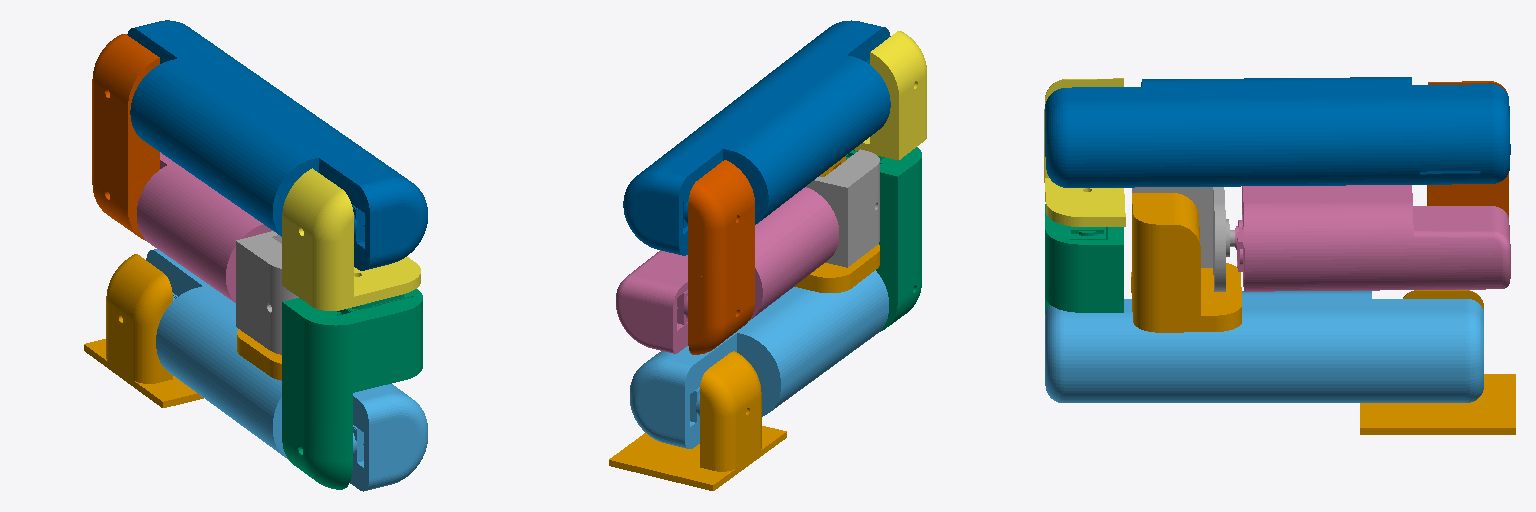
The robot description file, URDF, robot "arm2":
<?xml version='1.0' encoding='utf-8'?>
<robot name="arm2">
    <link name="base_link">
        <inertial>
            <origin xyz="-0.4978620384464306 -0.8602252270366714 0.14881945263357563"
                rpy="0.0 0.0 0.0" />
            <mass value="0.5289635796710868" />
            <inertia ixx="0.00034742150662819826" iyy="0.00033835491346662083"
                izz="0.00032653734961951564" ixy="7.4018092550975894e-06"
                iyz="-8.576313641331372e-06" ixz="7.973460484756584e-05" />
        </inertial>
        <visual name="base_link_visual">
            <origin xyz="0.0 0.0 0.0" rpy="0.0 0.0 0.0" />
            <geometry>
                <mesh filename="package://arm2_description/meshes/base_link.stl"
                    scale="0.001 0.001 0.001" />
            </geometry>
        </visual>
        <collision name="base_link_collision">
            <origin xyz="0.0 0.0 0.0" rpy="0.0 0.0 0.0" />
            <geometry>
                <mesh filename="package://arm2_description/meshes/base_link.stl"
                    scale="0.001 0.001 0.001" />
            </geometry>
        </collision>
    </link>
    <link name="arm_1">
        <inertial>
            <origin xyz="0.001468958902272739 -0.09755592156138476 -0.014383547671648955"
                rpy="0.0 -0.0 0.0" />
            <mass value="4.692702425103448" />
            <inertia ixx="0.018450371432606083" iyy="0.0022924316231949238"
                izz="0.018033331112635942" ixy="7.6200128962256e-07" iyz="0.00011766538318312717"
                ixz="3.360163822862139e-07" />
        </inertial>
        <visual name="arm_1_visual">
            <origin xyz="0.09652492537393506 0.9603418934556679 -0.600508235246513"
                rpy="7.893518669522489e-31 -1.5707963267948928 0" />
            <geometry>
                <mesh filename="package://arm2_description/meshes/arm_1.stl"
                    scale="0.001 0.001 0.001" />
            </geometry>
        </visual>
        <collision name="arm_1_collision">
            <origin xyz="0.09652492537393506 0.9603418934556679 -0.600508235246513"
                rpy="7.893518669522489e-31 -1.5707963267948928 0" />
            <geometry>
                <mesh filename="package://arm2_description/meshes/arm_1.stl"
                    scale="0.001 0.001 0.001" />
            </geometry>
        </collision>
    </link>
    <link name="arm_2">
        <inertial>
            <origin xyz="0.04646050510372611 0.00025955415157682184 0.004747670168694924"
                rpy="0.0 -0.0 0.0" />
            <mass value="1.202796183767878" />
            <inertia ixx="0.0006837825937870967" iyy="0.001320285018742151"
                izz="0.0009831727585649652" ixy="-1.961546090556313e-05"
                iyz="-1.193799392462537e-05" ixz="-0.00030321665398197456" />
        </inertial>
        <visual name="arm_2_visual">
            <origin xyz="0.033999999458183584 0.005000003956452446 -0.007500002965190689"
                rpy="1.5707963267949017 2.105251958897056e-15 8.268195910819235e-30" />
            <geometry>
                <mesh filename="package://arm2_description/meshes/arm_2.stl"
                    scale="0.001 0.001 0.001" />
            </geometry>
        </visual>
        <collision name="arm_2_collision">
            <origin xyz="0.033999999458183584 0.005000003956452446 -0.007500002965190689"
                rpy="1.5707963267949017 2.105251958897056e-15 8.268195910819235e-30" />
            <geometry>
                <mesh filename="package://arm2_description/meshes/arm_2.stl"
                    scale="0.001 0.001 0.001" />
            </geometry>
        </collision>
    </link>
    <link name="arm_3">
        <inertial>
            <origin xyz="0.029049151328160827 0.0010410322621982005 -0.01733873965324655"
                rpy="-1.8868807888022411e-90 -0.0 0.0" />
            <mass value="0.46385857953142046" />
            <inertia ixx="0.00018515491356319025" iyy="0.0002833506080626158"
                izz="0.00023136504069264633" ixy="3.3737295296328777e-07"
                iyz="6.001949390543048e-07" ixz="6.527822290304697e-05" />
        </inertial>
        <visual name="arm_3_visual">
            <origin xyz="0.002024925374062079 -1.1475942034556579 0.5320082352465172"
                rpy="1.5707963267948988 4.855169349603931e-17 1.570796326794979" />
            <geometry>
                <mesh filename="package://arm2_description/meshes/arm_3.stl"
                    scale="0.001 0.001 0.001" />
            </geometry>
        </visual>
        <collision name="arm_3_collision">
            <origin xyz="0.002024925374062079 -1.1475942034556579 0.5320082352465172"
                rpy="1.5707963267948988 4.855169349603931e-17 1.570796326794979" />
            <geometry>
                <mesh filename="package://arm2_description/meshes/arm_3.stl"
                    scale="0.001 0.001 0.001" />
            </geometry>
        </collision>
    </link>
    <link name="arm_4">
        <inertial>
            <origin xyz="-0.014457391368257718 0.00014607877796755987 -0.10326662740779441"
                rpy="1.577721810442024e-30 3.469446951950197e-18 -4.930380657631325e-32" />
            <mass value="4.838851771004671" />
            <inertia ixx="0.020512356223124435" iyy="0.021126873659128798"
                izz="0.0023305019136294802" ixy="7.331755276813214e-06" iyz="3.902695496726724e-05"
                ixz="-0.00011555949347316878" />
        </inertial>
        <visual name="arm_4_visual">
            <origin xyz="-0.5746179782026112 0.050697554618139726 -1.1357245098281386"
                rpy="1.5707963267949803 -1.5707963267948017 0" />
            <geometry>
                <mesh filename="package://arm2_description/meshes/arm_4.stl"
                    scale="0.001 0.001 0.001" />
            </geometry>
        </visual>
        <collision name="arm_4_collision">
            <origin xyz="-0.5746179782026112 0.050697554618139726 -1.1357245098281386"
                rpy="1.5707963267949803 -1.5707963267948017 0" />
            <geometry>
                <mesh filename="package://arm2_description/meshes/arm_4.stl"
                    scale="0.001 0.001 0.001" />
            </geometry>
        </collision>
    </link>
    <link name="arm_5">
        <inertial>
            <origin xyz="-0.014560508261271962 -0.030127811176536633 -5.3502466136592376e-05"
                rpy="0.0 4.226342840682485e-43 -1.4012984643248174e-45" />
            <mass value="0.6582703916464507" />
            <inertia ixx="0.0006403762308376801" iyy="0.00012241957194325526"
                izz="0.0005607234072720344" ixy="-1.0392954136307448e-09"
                iyz="-9.114859291995704e-10" ixz="3.6663628621989487e-07" />
        </inertial>
        <visual name="arm_5_visual">
            <origin xyz="0.4893813691929647 -0.3042295778741226 -1.0899899878866102"
                rpy="-1.5707963267947789 0.02238380577389224 7.76271511819099e-14" />
            <geometry>
                <mesh filename="package://arm2_description/meshes/arm_5.stl"
                    scale="0.001 0.001 0.001" />
            </geometry>
        </visual>
        <collision name="arm_5_collision">
            <origin xyz="0.4893813691929647 -0.3042295778741226 -1.0899899878866102"
                rpy="-1.5707963267947789 0.02238380577389224 7.76271511819099e-14" />
            <geometry>
                <mesh filename="package://arm2_description/meshes/arm_5.stl"
                    scale="0.001 0.001 0.001" />
            </geometry>
        </collision>
    </link>
    <link name="arm_6">
        <inertial>
            <origin xyz="-0.0004855266709942896 -0.06097699224107018 -0.013620188460791027"
                rpy="4.552772925024232e-72 -0.0 0.0" />
            <mass value="2.7005914040272287" />
            <inertia ixx="0.004680855610912804" iyy="0.001292119750982407"
                izz="0.0043390020398983604" ixy="0.00014215338177492364"
                iyz="0.00028856231621801035" ixz="-1.52780918652529e-05" />
        </inertial>
        <visual name="arm_6_visual">
            <origin xyz="-0.05397301787405457 0.9382117091042165 -0.5457678701353874"
                rpy="-1.5707963267948204 0.02238380577389022 -1.5707963267949798" />
            <geometry>
                <mesh filename="package://arm2_description/meshes/arm_6.stl"
                    scale="0.001 0.001 0.001" />
            </geometry>
        </visual>
        <collision name="arm_6_collision">
            <origin xyz="-0.05397301787405457 0.9382117091042165 -0.5457678701353874"
                rpy="-1.5707963267948204 0.02238380577389022 -1.5707963267949798" />
            <geometry>
                <mesh filename="package://arm2_description/meshes/arm_6.stl"
                    scale="0.001 0.001 0.001" />
            </geometry>
        </collision>
    </link>
    <link name="arm_7">
        <inertial>
            <origin xyz="0.0004931413793654472 0.024747309214756825 -0.01687305491240437"
                rpy="1.5930919111324523e-58 -0.0 0.0" />
            <mass value="0.47563160728907944" />
            <inertia ixx="0.00022938326215116156" iyy="0.0002178366833349712"
                izz="0.00021098336803199147" ixy="-1.2409722735528996e-08"
                iyz="5.5174108472499914e-05" ixz="5.2149485847680846e-08" />
        </inertial>
        <visual name="arm_7_visual">
            <origin xyz="-0.004999998348927441 -0.0500844757503792 -0.019125780005055545"
                rpy="1.5707963267949732 -0.022383805773805058 1.5707963267949585" />
            <geometry>
                <mesh filename="package://arm2_description/meshes/arm_7.stl"
                    scale="0.001 0.001 0.001" />
            </geometry>
        </visual>
        <collision name="arm_7_collision">
            <origin xyz="-0.004999998348927441 -0.0500844757503792 -0.019125780005055545"
                rpy="1.5707963267949732 -0.022383805773805058 1.5707963267949585" />
            <geometry>
                <mesh filename="package://arm2_description/meshes/arm_7.stl"
                    scale="0.001 0.001 0.001" />
            </geometry>
        </collision>
    </link>
    <link name="hand">
        <inertial>
            <origin xyz="0.018743459451590283 -0.015323223424848785 -0.007866942811366186"
                rpy="0.0 -0.0 0.0" />
            <mass value="0.8723998674547482" />
            <inertia ixx="0.0004954635038616484" iyy="0.00040691383274914727"
                izz="0.0005557626292218918" ixy="-8.464367630564707e-05"
                iyz="-7.153424598795762e-05" ixz="-2.1697164913105272e-05" />
        </inertial>
        <visual name="hand_visual">
            <origin xyz="0.4919713908041492 -0.23783935849352525 -1.0047784740672443"
                rpy="-1.5707963267948934 0.022383805773862155 1.434808728868977e-13" />
            <geometry>
                <mesh filename="package://arm2_description/meshes/hand.stl"
                    scale="0.001 0.001 0.001" />
            </geometry>
        </visual>
        <collision name="hand_collision">
            <origin xyz="0.4919713908041492 -0.23783935849352525 -1.0047784740672443"
                rpy="-1.5707963267948934 0.022383805773862155 1.434808728868977e-13" />
            <geometry>
                <mesh filename="package://arm2_description/meshes/hand.stl"
                    scale="0.001 0.001 0.001" />
            </geometry>
        </collision>
    </link>
    <joint name="servo_1" type="revolute">
        <origin xyz="-0.49253320999999994 -0.8593418934556784 0.16346362308864362"
            rpy="-8.15938374900091e-16 -1.5707963267948966 0" />
        <parent link="base_link" />
        <child link="arm_1" />
        <axis xyz="0.0 -8.714495261313488e-16 1.0" />
        <limit lower="0.0" upper="3.141593" effort="100" velocity="5.25" />
    </joint>
    <joint name="servo_2" type="revolute">
        <origin xyz="0.0 -0.19325231000000004 -1.4210854715202004e-16"
            rpy="3.14159265358979 -0.0 0.0" />
        <parent link="arm_1" />
        <child link="arm_2" />
        <axis xyz="0.0 3.9274139496115e-15 -1.0" />
        <limit lower="-3.141593" upper="0.0" effort="100" velocity="5.25" />
    </joint>
    <joint name="servo_3" type="revolute">
        <origin xyz="0.08449999999999999 -1.4210854715202004e-16 0.010499999999999971"
            rpy="5.1063883277737336e-15 -3.503246160812043e-46 -1.3758697840896148e-60" />
        <parent link="arm_2" />
        <child link="arm_3" />
        <axis xyz="1.0 5.3860925044584005e-45 -6.538970074006538e-14" />
        <limit lower="-1.570796" upper="1.570796" effort="100" velocity="5.25" />
    </joint>
    <joint name="servo_4" type="revolute">
        <origin xyz="0.0454999999999993 0.0002355699999999672 -0.010522339999999986"
            rpy="-6.509950977085272e-28 1.5484125210210091 1.5707963267978051" />
        <parent link="arm_3" />
        <child link="arm_4" />
        <axis xyz="0.9999995084623765 2.766112916432508e-16 7.437694409667683e-08" />
        <limit lower="-3.141593" upper="0.0" effort="100" velocity="5.25" />
    </joint>
    <joint name="servo_5" type="revolute">
        <origin xyz="-0.004962859728564269 0.0017115099999974249 -0.20696316729374573"
            rpy="-2.1125888307746806e-14 -0.022383805773888623 3.141592653589793" />
        <parent link="arm_4" />
        <child link="arm_5" />
        <axis xyz="-0.9997489999999999 -7.494509237472398e-16 0.022381999999999853" />
        <limit lower="-3.141593" upper="0.0" effort="100" velocity="5.25" />
    </joint>
    <joint name="servo_6" type="revolute">
        <origin xyz="-3.09999999927868e-07 -0.060256560000000015 -2.2900000018921675e-06"
            rpy="-1.5707963267949252 -3.3484537742258944e-14 1.5707963267948966" />
        <parent link="arm_5" />
        <child link="arm_6" />
        <axis xyz="1.2618606418140821e-29 -0.022382000000028567 0.9997489999999993" />
        <limit lower="-3.141593" upper="0.0" effort="100" velocity="5.25" />
    </joint>
    <joint name="servo_7" type="revolute">
        <origin xyz="-1.7763568394002506e-16 -0.1265147599999996 -0.012334740000003635"
            rpy="-3.141592653589763 2.524354896707238e-29 7.213280852345444e-43" />
        <parent link="arm_6" />
        <child link="arm_7" />
        <axis xyz="2.8250055649050697e-31 0.999749 0.022381999999998136" />
        <limit lower="-1.570796" upper="1.570796" effort="100" velocity="5.25" />
    </joint>
    <joint name="servo_8" type="revolute">
        <origin xyz="-0.00013366000000001322 0.04122214999999997 -0.009686690000000055"
            rpy="-1.5707963267948346 -1.5707963267948948 0" />
        <parent link="arm_7" />
        <child link="hand" />
        <axis xyz="-0.999749 1.3871370006239592e-15 0.022381999999968965" />
        <limit lower="0.0" upper="3.141593" effort="100" velocity="5.25" />
    </joint>
</robot>

--- What the picture shows (computed from the rendered views, not written in the file) ---
Views: 3 orthographic renders of the robot side by side, from view 1: azimuth 30°, elevation 25°; view 2: azimuth 150°, elevation 25°; view 3: azimuth 270°, elevation 25°.
Robot: arm2 — 9 links, 8 joints (8 revolute); root link base_link; default pose: all joints at 0.
Links seen in each view (by area): view 1: arm_4, arm_1, arm_2, arm_3, arm_6, arm_5, base_link, arm_7, hand; view 2: arm_4, arm_1, arm_6, arm_5, base_link, arm_2, arm_3, arm_7, hand; view 3: arm_4, arm_1, arm_6, hand, arm_2, base_link, arm_3, arm_7, arm_5.
Boxes of the visible links, <box> form: arm_4: <box>127,20,427,270</box>; arm_1: <box>146,249,427,491</box>; arm_2: <box>282,289,422,489</box>; arm_3: <box>282,168,420,310</box>; arm_6: <box>137,152,272,302</box>; arm_5: <box>92,34,159,240</box>; base_link: <box>84,254,203,407</box>; arm_7: <box>236,231,298,354</box>; hand: <box>237,329,281,380</box>; arm_4: <box>623,20,890,255</box>; arm_1: <box>630,270,888,448</box>; arm_6: <box>616,187,838,353</box>; arm_5: <box>688,160,754,354</box>; base_link: <box>609,351,786,490</box>; arm_2: <box>846,147,921,331</box>; arm_3: <box>854,31,926,160</box>; arm_7: <box>806,149,879,267</box>; hand: <box>794,156,879,292</box>; arm_4: <box>1045,77,1510,187</box>; arm_1: <box>1045,291,1483,402</box>; arm_6: <box>1235,185,1510,291</box>; hand: <box>1131,193,1241,332</box>; arm_2: <box>1045,204,1123,313</box>; base_link: <box>1360,290,1515,434</box>; arm_3: <box>1044,78,1125,226</box>; arm_7: <box>1132,187,1234,291</box>; arm_5: <box>1427,81,1508,216</box>.
Bounding box of the posed robot: 0.0769 × 0.2568 × 0.19 m (x, y, z).
Meshes: 9 distinct files referenced, 9 mesh visuals loaded (9 binary STL).